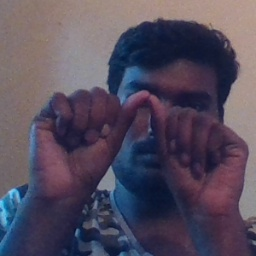A: (64, 83, 218, 200)
